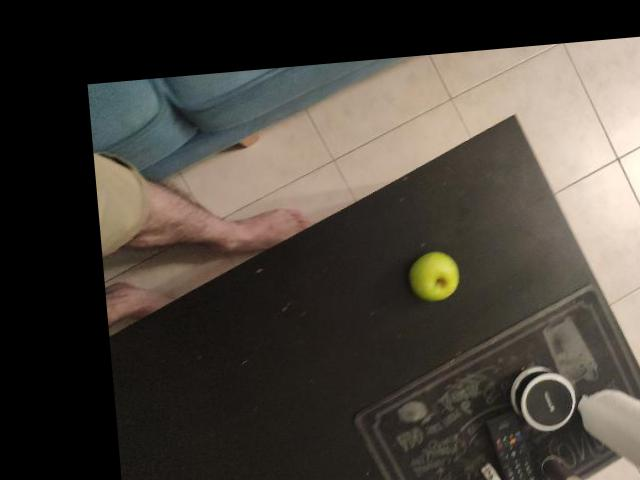apple: (489, 178, 547, 245)
